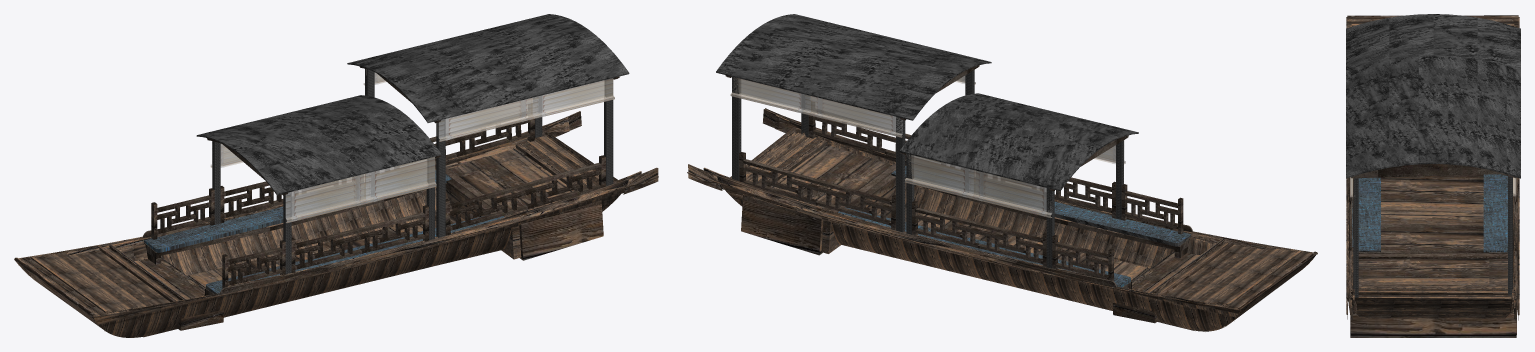
3 renders of one model, left to right at view 1: azimuth 30°, elevation 25°; view 2: azimuth 150°, elevation 25°; view 3: azimuth 270°, elevation 25°, orthographic. The views are drawn at different scales.
Parts seen in each view (by area): view 1: Model, Group10, Group3, Group7, Group13, Group5, Group1, Group2, Group9, Group6, Group8, Group11 (+1 smaller); view 2: Model, Group10, Group3, Group7, Group13, Group5, Group1, Group2, Group8, Group6, Group11, Group9 (+1 smaller); view 3: Group3, Model, Group11, Group7, Group10, Group9, Group8, Group1, Group13, Group2, Group4.
Part boxes in pixels (left/top/right/bottom): Model: left=143, top=111, right=658, bottom=307; Group10: left=30, top=117, right=641, bottom=330; Group3: left=348, top=14, right=628, bottom=121; Group7: left=196, top=95, right=441, bottom=195; Group13: left=14, top=176, right=658, bottom=337; Group5: left=207, top=138, right=440, bottom=222; Group1: left=359, top=66, right=619, bottom=141; Group2: left=365, top=68, right=613, bottom=237; Group9: left=144, top=170, right=451, bottom=252; Group6: left=212, top=141, right=434, bottom=274; Group8: left=206, top=215, right=504, bottom=297; Group11: left=187, top=215, right=464, bottom=288; Model: left=688, top=108, right=1192, bottom=289; Group10: left=703, top=115, right=1301, bottom=323; Group3: left=716, top=14, right=990, bottom=119; Group7: left=899, top=93, right=1138, bottom=190; Group13: left=687, top=172, right=1317, bottom=331; Group5: left=900, top=135, right=1128, bottom=217; Group1: left=725, top=65, right=979, bottom=137; Group2: left=732, top=70, right=974, bottom=232; Group8: left=891, top=166, right=1191, bottom=246; Group6: left=906, top=140, right=1123, bottom=268; Group11: left=877, top=210, right=1150, bottom=281; Group9: left=838, top=207, right=1130, bottom=287; Group3: left=1346, top=55, right=1520, bottom=177; Model: left=1346, top=177, right=1518, bottom=337; Group11: left=1381, top=174, right=1483, bottom=250; Group7: left=1346, top=14, right=1520, bottom=70; Group10: left=1350, top=24, right=1515, bottom=313; Group9: left=1483, top=174, right=1507, bottom=252; Group8: left=1352, top=177, right=1380, bottom=252; Group1: left=1350, top=164, right=1516, bottom=197; Group13: left=1346, top=15, right=1519, bottom=317; Group2: left=1353, top=176, right=1512, bottom=297; Group4: left=1346, top=162, right=1520, bottom=178.
Size of the model in its own units: 12715 by 3815 by 3128.
